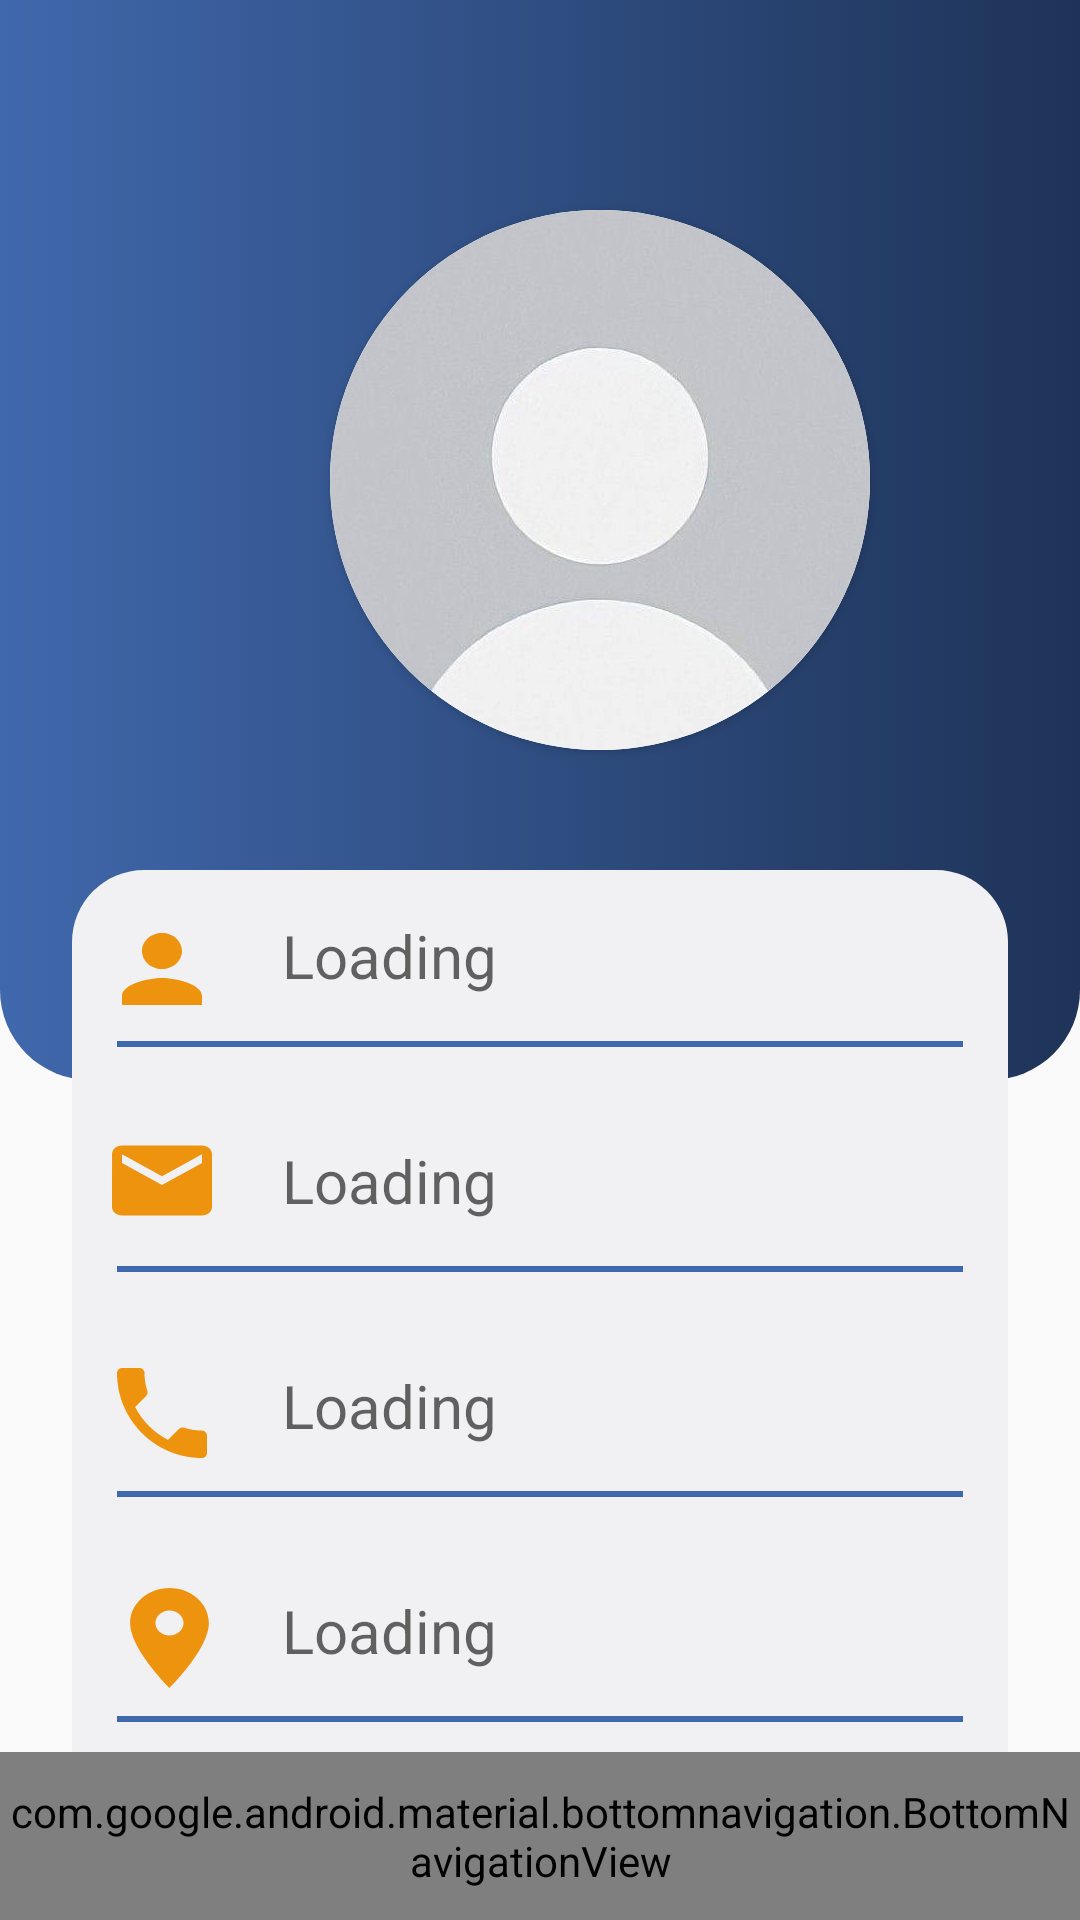

Screen size 1080px x 1920px. Icon name, then its box in pixels as [x1=x1, y1=y1, x2=x2, y2=y2]:
email: [x1=112, y1=1145, x2=212, y2=1216]
local phone: [x1=117, y1=1368, x2=207, y2=1458]
location on: [x1=130, y1=1588, x2=209, y2=1688]
person: [x1=122, y1=933, x2=202, y2=1005]
